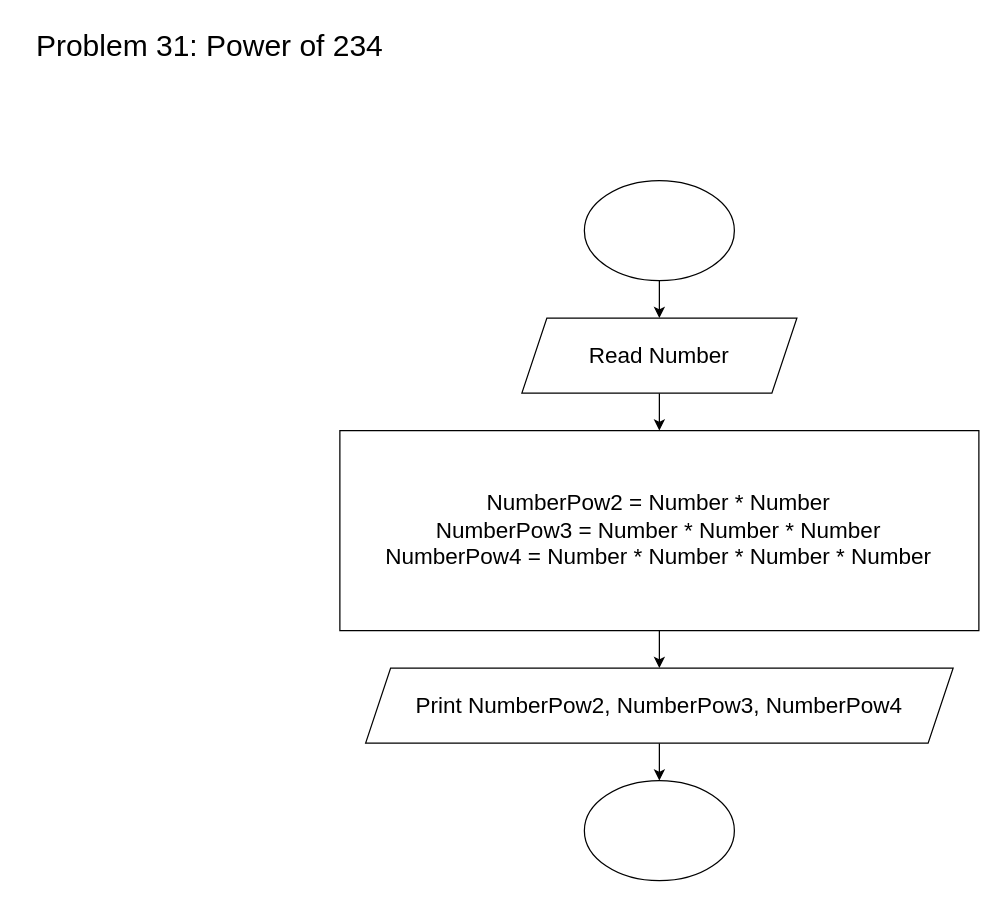
The diagram is 1001 pixels wide and 903 high, and some of its shapes have lost their labels. Each missing label, with the centre of its shape:
End: point 658,830
Start: point 658,230
